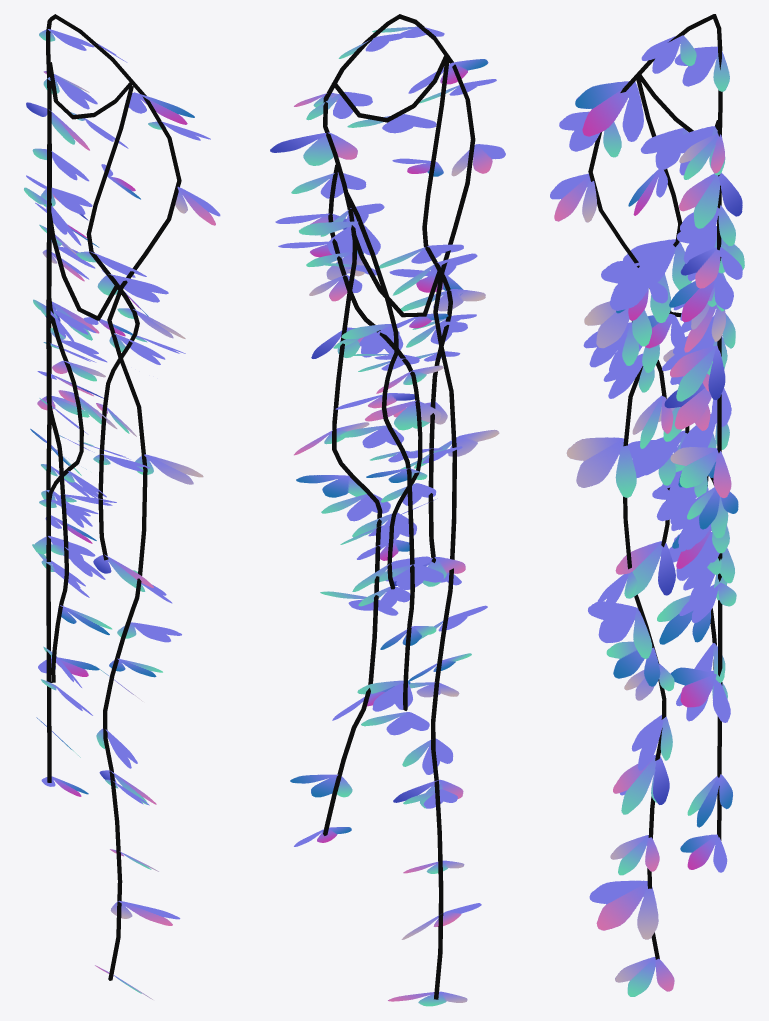
File: SM_ivy_U_straight_A.FBX
3 views of the same model, side by side, from view 1: azimuth 90°, elevation 25°; view 2: azimuth 150°, elevation 25°; view 3: azimuth 270°, elevation 25° (orthographic). The views are drawn at different scales.
Visible parts, largest first — view 1: SM_ivy_U_straight_A; view 2: SM_ivy_U_straight_A; view 3: SM_ivy_U_straight_A.
Part boxes in pixels (x1,y1,x2,y2): SM_ivy_U_straight_A: (24,14,220,999); SM_ivy_U_straight_A: (270,14,505,1006); SM_ivy_U_straight_A: (550,14,744,996).
Bounding box in the file's own units: 99.75 × 592 × 118.
2 materials, 1 textured.
